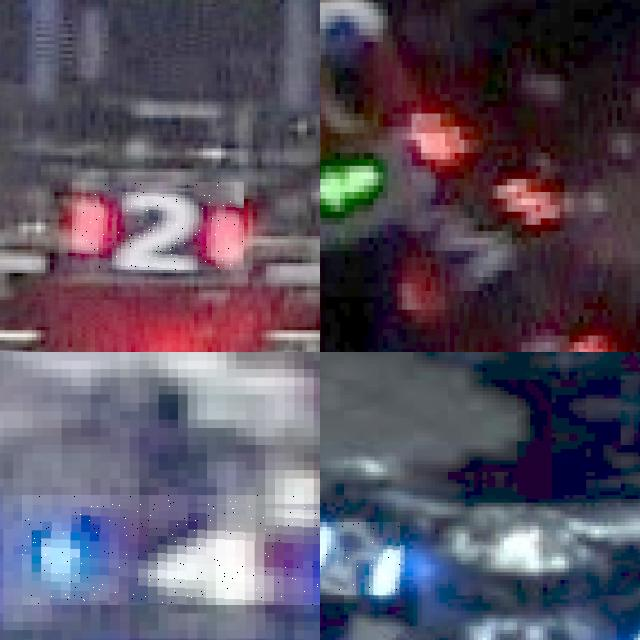B4: (22, 495, 320, 604)
Bs: (320, 521, 400, 595)
R2: (72, 182, 244, 270)
